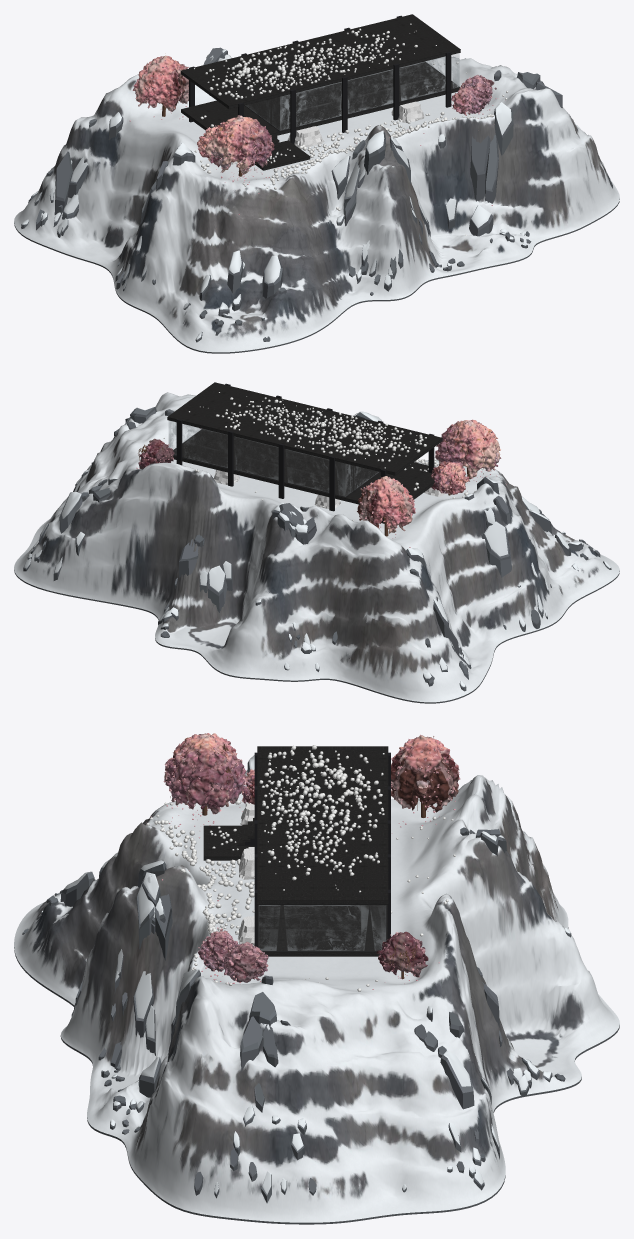
File: snow-mountain-lake-house.glb
3 renders of one model, top to bottom at view 1: azimuth 30°, elevation 25°; view 2: azimuth 150°, elevation 25°; view 3: azimuth 270°, elevation 25°, orthographic. The views are drawn at different scales.
Parts seen in each view (by area): view 1: Snow-covered mountain spur, Fractured outcrops and pockets of snow, Roof | thin black sandwich board, Raised floor and open west porch, Front sheet, Mapped roof snow | denser over entrance and center, Talus at the feet of the crags, Weeping cherry | front of entrance, Weeping cherry | behind west porch, Mapped loose beads on the forecourt, Irregular cut-foam supports beneath the deck, Low cherry | front east, inner (+1 smaller); view 2: Snow-covered mountain spur, Roof | thin black sandwich board, Fractured outcrops and pockets of snow, Raised floor and open west porch, Mapped roof snow | denser over entrance and center, Talus at the feet of the crags, Weeping cherry | front of entrance, Weeping cherry | behind west porch, Rear sheet, Small cherry | west side, Low cherry | rear east, Irregular cut-foam supports beneath the deck; view 3: Snow-covered mountain spur, Roof | thin black sandwich board, Fractured outcrops and pockets of snow, Raised floor and open west porch, Talus at the feet of the crags, Mapped roof snow | denser over entrance and center, Weeping cherry | front of entrance, Weeping cherry | behind west porch, Mapped loose beads on the forecourt, East return, Low cherry | rear east, Low cherry | front east, outer (+3 smaller).
Boxes of the visible parts, bbox=[...] form: Snow-covered mountain spur: bbox=[14, 54, 619, 353]; Fractured outcrops and pockets of snow: bbox=[54, 47, 570, 316]; Roof | thin black sandwich board: bbox=[180, 14, 460, 108]; Raised floor and open west porch: bbox=[181, 61, 459, 135]; Front sheet: bbox=[280, 53, 459, 130]; Mapped roof snow | denser over entrance and center: bbox=[194, 23, 436, 99]; Talus at the feet of the crags: bbox=[21, 123, 612, 342]; Weeping cherry | front of entrance: bbox=[205, 115, 274, 176]; Weeping cherry | behind west porch: bbox=[132, 53, 188, 116]; Mapped loose beads on the forecourt: bbox=[201, 91, 508, 235]; Irregular cut-foam supports beneath the deck: bbox=[231, 101, 424, 164]; Low cherry | front east, inner: bbox=[451, 86, 490, 115]; Snow-covered mountain spur: bbox=[14, 392, 619, 703]; Roof | thin black sandwich board: bbox=[167, 382, 442, 475]; Fractured outcrops and pockets of snow: bbox=[59, 406, 582, 657]; Raised floor and open west porch: bbox=[173, 429, 434, 504]; Mapped roof snow | denser over entrance and center: bbox=[188, 392, 426, 468]; Talus at the feet of the crags: bbox=[23, 461, 611, 691]; Weeping cherry | front of entrance: bbox=[435, 419, 501, 479]; Weeping cherry | behind west porch: bbox=[357, 476, 415, 536]; Rear sheet: bbox=[168, 421, 345, 496]; Small cherry | west side: bbox=[431, 461, 469, 495]; Low cherry | rear east: bbox=[138, 438, 174, 468]; Irregular cut-foam supports beneath the deck: bbox=[213, 469, 445, 508]; Snow-covered mountain spur: bbox=[14, 770, 619, 1224]; Roof | thin black sandwich board: bbox=[257, 746, 388, 904]; Fractured outcrops and pockets of snow: bbox=[60, 755, 506, 1112]; Raised floor and open west porch: bbox=[257, 904, 387, 956]; Talus at the feet of the crags: bbox=[22, 890, 571, 1203]; Mapped roof snow | denser over entrance and center: bbox=[259, 745, 384, 892]; Weeping cherry | front of entrance: bbox=[163, 733, 246, 815]; Weeping cherry | behind west porch: bbox=[391, 734, 460, 817]; Mapped loose beads on the forecourt: bbox=[146, 800, 254, 985]; East return: bbox=[259, 905, 385, 950]; Low cherry | rear east: bbox=[376, 931, 428, 978]; Low cherry | front east, outer: bbox=[222, 942, 268, 982].
Bounding box in the file's own units: 50.93 × 16.65 × 39.21.
18 materials, 8 textured.
